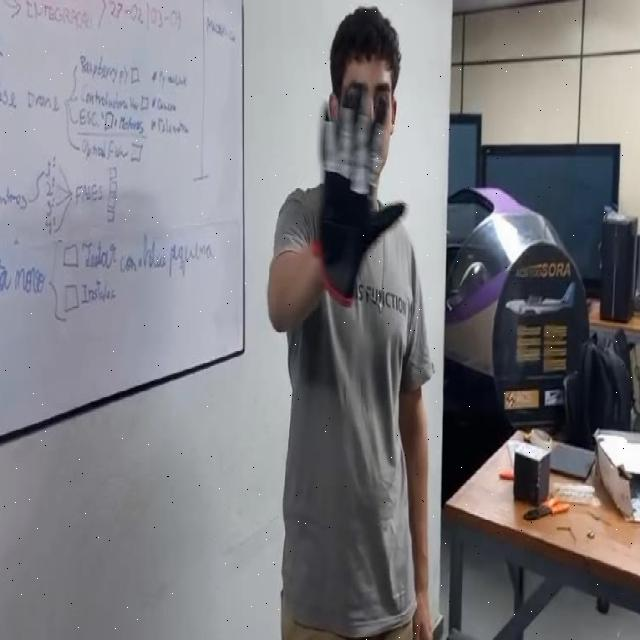Gloves: (312, 92, 411, 303)
